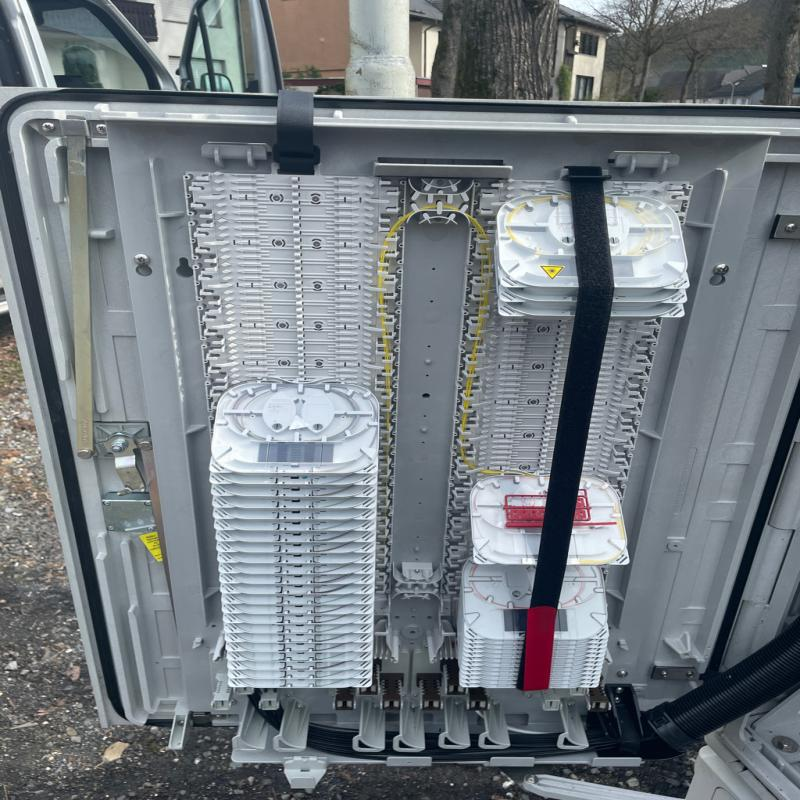NT-Gehause: (0, 82, 800, 800)
Spleiskassetten: (448, 171, 709, 698), (180, 160, 396, 696)
